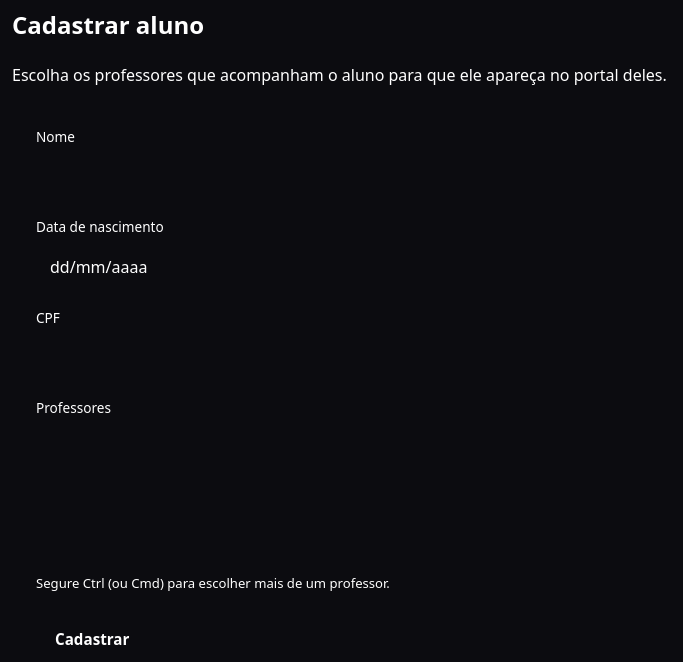
Test: CadastroAluno › formata a data digitada como dd/mm/aaaa conforme o usuario digita
In the field labelled "Data de nascimento": (322, 267) [36,244,608,290], type "25121990"
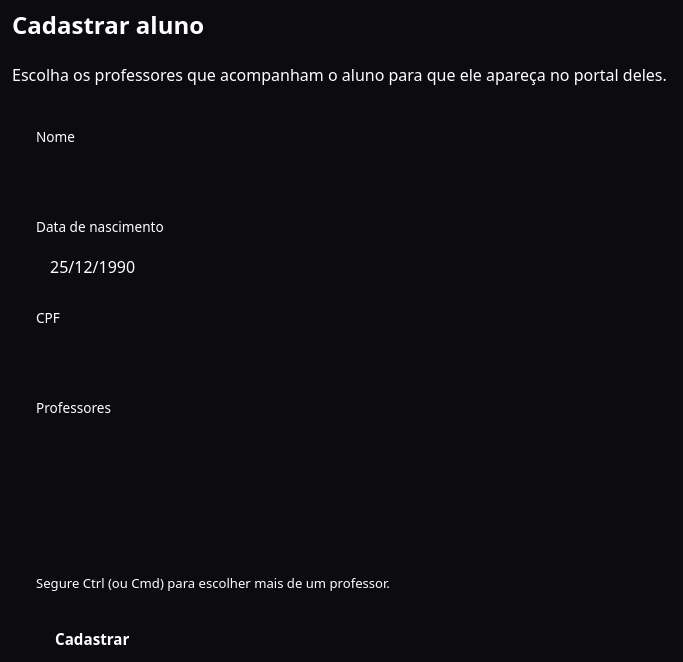
Expected: the field labelled "Data de nascimento" holds "25/12/1990", [36,244,608,290]
